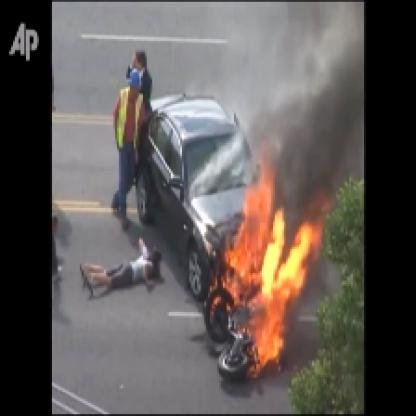Fire: (206, 161, 323, 379)
Smoke: (240, 13, 362, 180)
